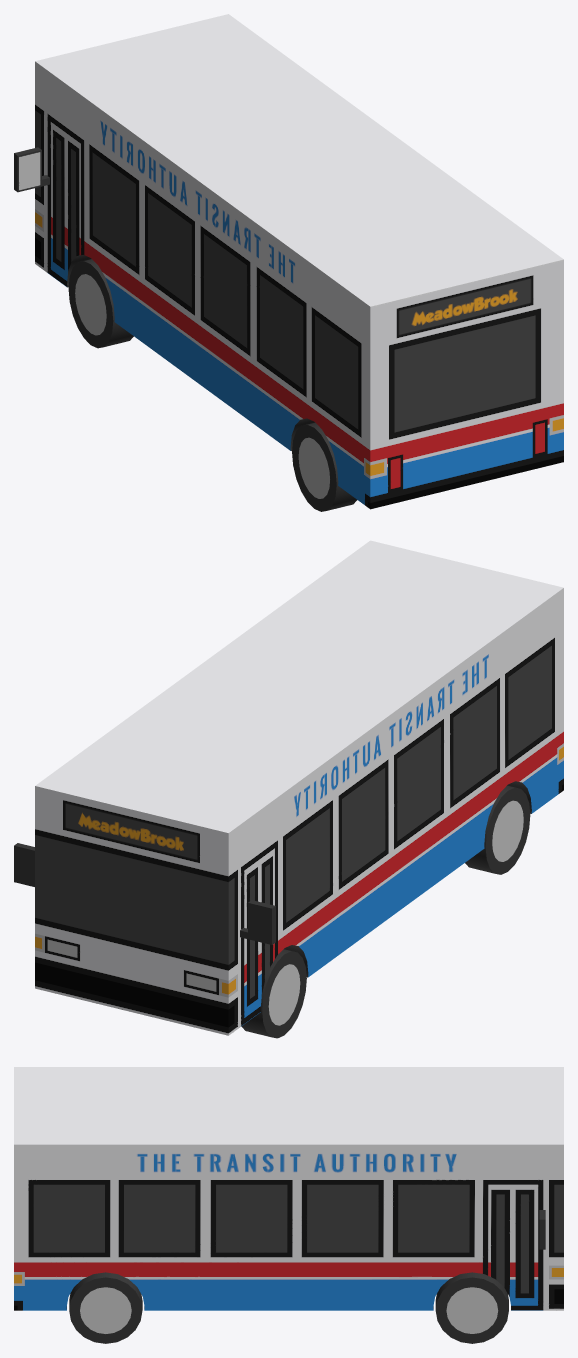
Rendered from Bus.FBX.
The picture shows the model from 3 angles, top to bottom: view 1: azimuth 30°, elevation 25°; view 2: azimuth 150°, elevation 25°; view 3: azimuth 270°, elevation 25°; orthographic projection. The views are drawn at different scales.
Visible parts, largest first — view 1: Box001; view 2: Box001; view 3: Box001.
Part boxes in pixels (box(x1,y1,x2,y2)): Box001: box(14, 14, 563, 511); Box001: box(14, 540, 563, 1038); Box001: box(14, 1067, 563, 1343).
Size of the model in its own units: 0.508 by 0.4572 by 1.14.
Materials: 1 (1 with a texture image).
